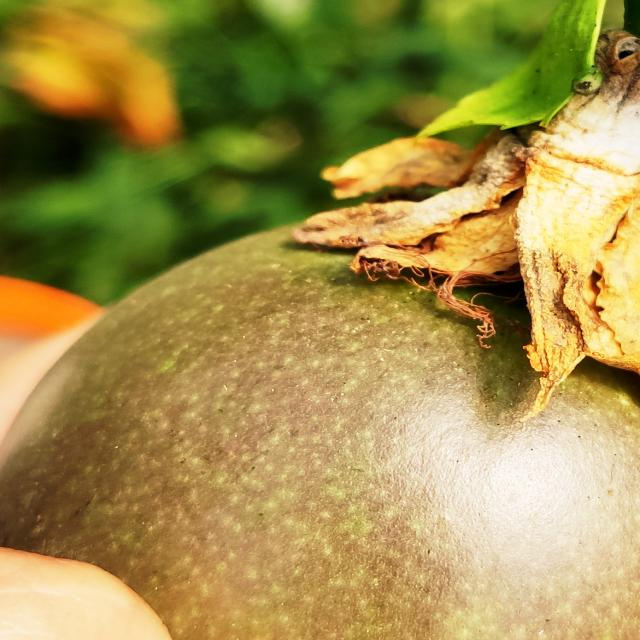Estado-3: (0, 28, 640, 640)
